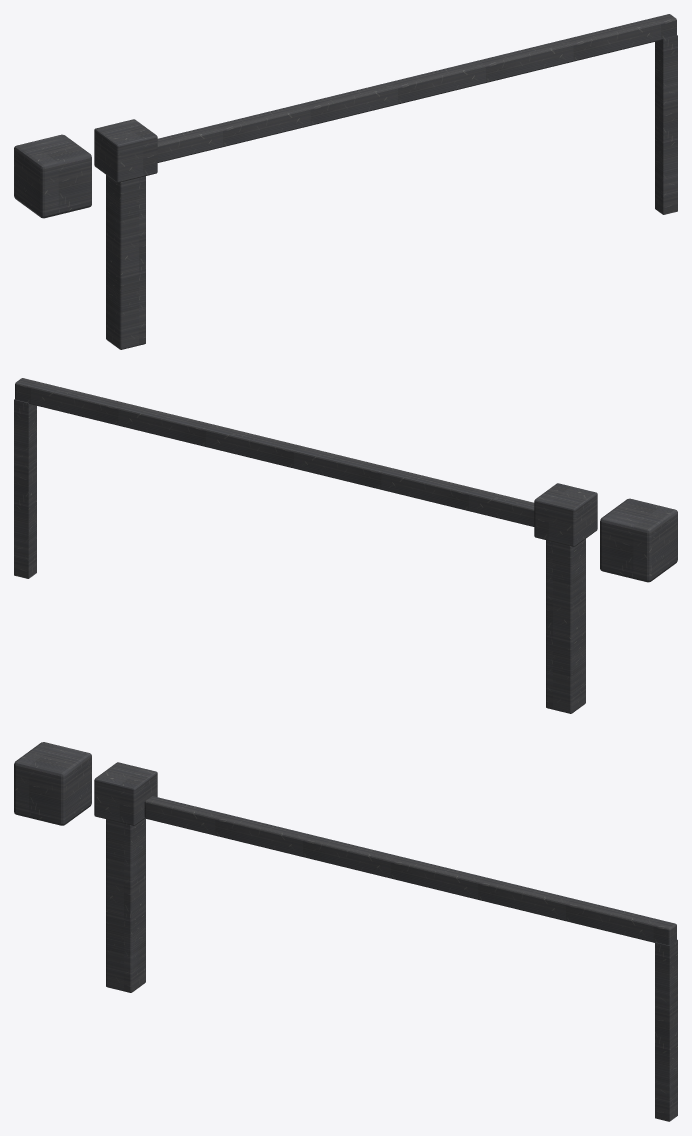
File: boom_barrier.glb
The picture shows the model from 3 angles, top to bottom: view 1: azimuth 30°, elevation 25°; view 2: azimuth 150°, elevation 25°; view 3: azimuth 330°, elevation 25°; orthographic projection.
Visible parts, largest first — view 1: boom_barrier; view 2: boom_barrier; view 3: boom_barrier.
Boxes of the visible parts, x1,y1,x2,y2 form: boom_barrier: (14,14,677,349); boom_barrier: (14,378,677,713); boom_barrier: (14,742,677,1121).
Bounding box in the file's own units: 4.43 × 1.38 × 0.35.
1 material, 1 textured.
